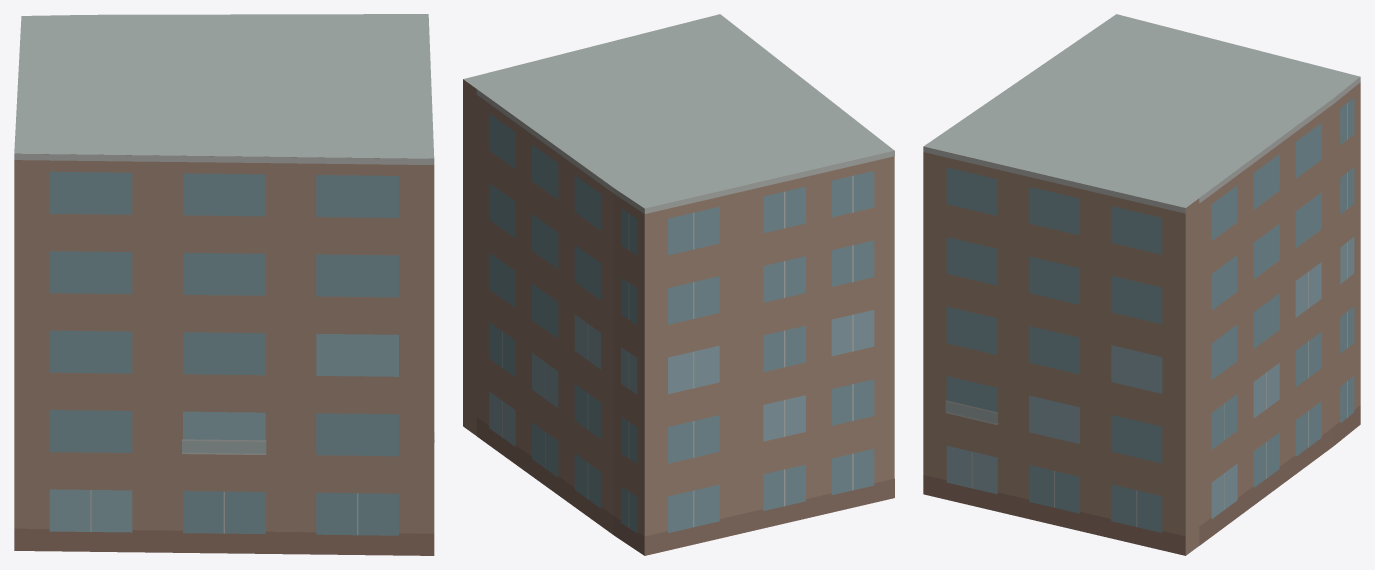
File: survey-upis-32759072.glb
The picture shows the model from 3 angles, left to right: view 1: azimuth 30°, elevation 25°; view 2: azimuth 150°, elevation 25°; view 3: azimuth 270°, elevation 25°; orthographic projection. The views are drawn at different scales.
Visible parts, largest first — view 1: survey-upis-32759072.tmp; view 2: survey-upis-32759072.tmp; view 3: survey-upis-32759072.tmp.
Boxes of the visible parts, bbox=[...] form: survey-upis-32759072.tmp: bbox=[14, 14, 434, 555]; survey-upis-32759072.tmp: bbox=[463, 14, 894, 555]; survey-upis-32759072.tmp: bbox=[923, 14, 1360, 555].
Bounding box in the file's own units: 18.26 × 15.25 × 17.38.
